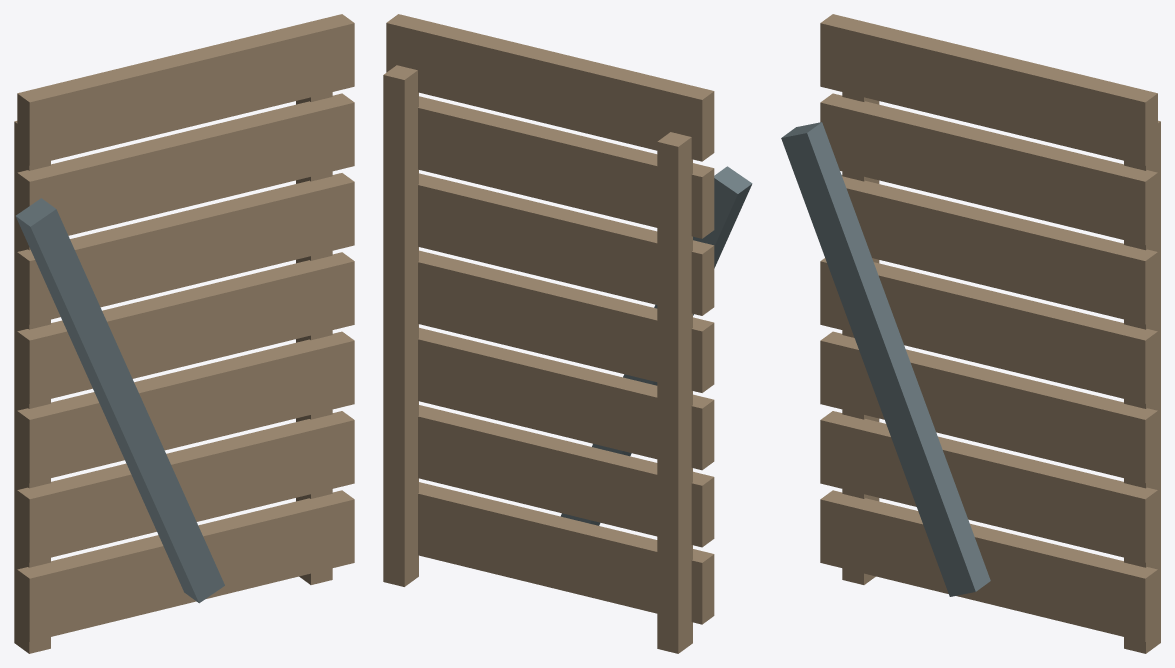
The model's file is zombie-quarantine-streets-boarded-door-panel-f8cb077e__19335.glb.
3 renders of one model, left to right at view 1: azimuth 30°, elevation 25°; view 2: azimuth 150°, elevation 25°; view 3: azimuth 330°, elevation 25°, orthographic. The views are drawn at different scales.
Parts seen in each view (by area): view 1: boarded-door-panel; view 2: boarded-door-panel; view 3: boarded-door-panel.
Part boxes in pixels (box(x1,y1,x2,y2)): boarded-door-panel: box(14, 14, 354, 653); boarded-door-panel: box(383, 14, 752, 653); boarded-door-panel: box(781, 14, 1160, 653).
Size of the model in its own units: 1.59 by 2.48 by 0.37.
